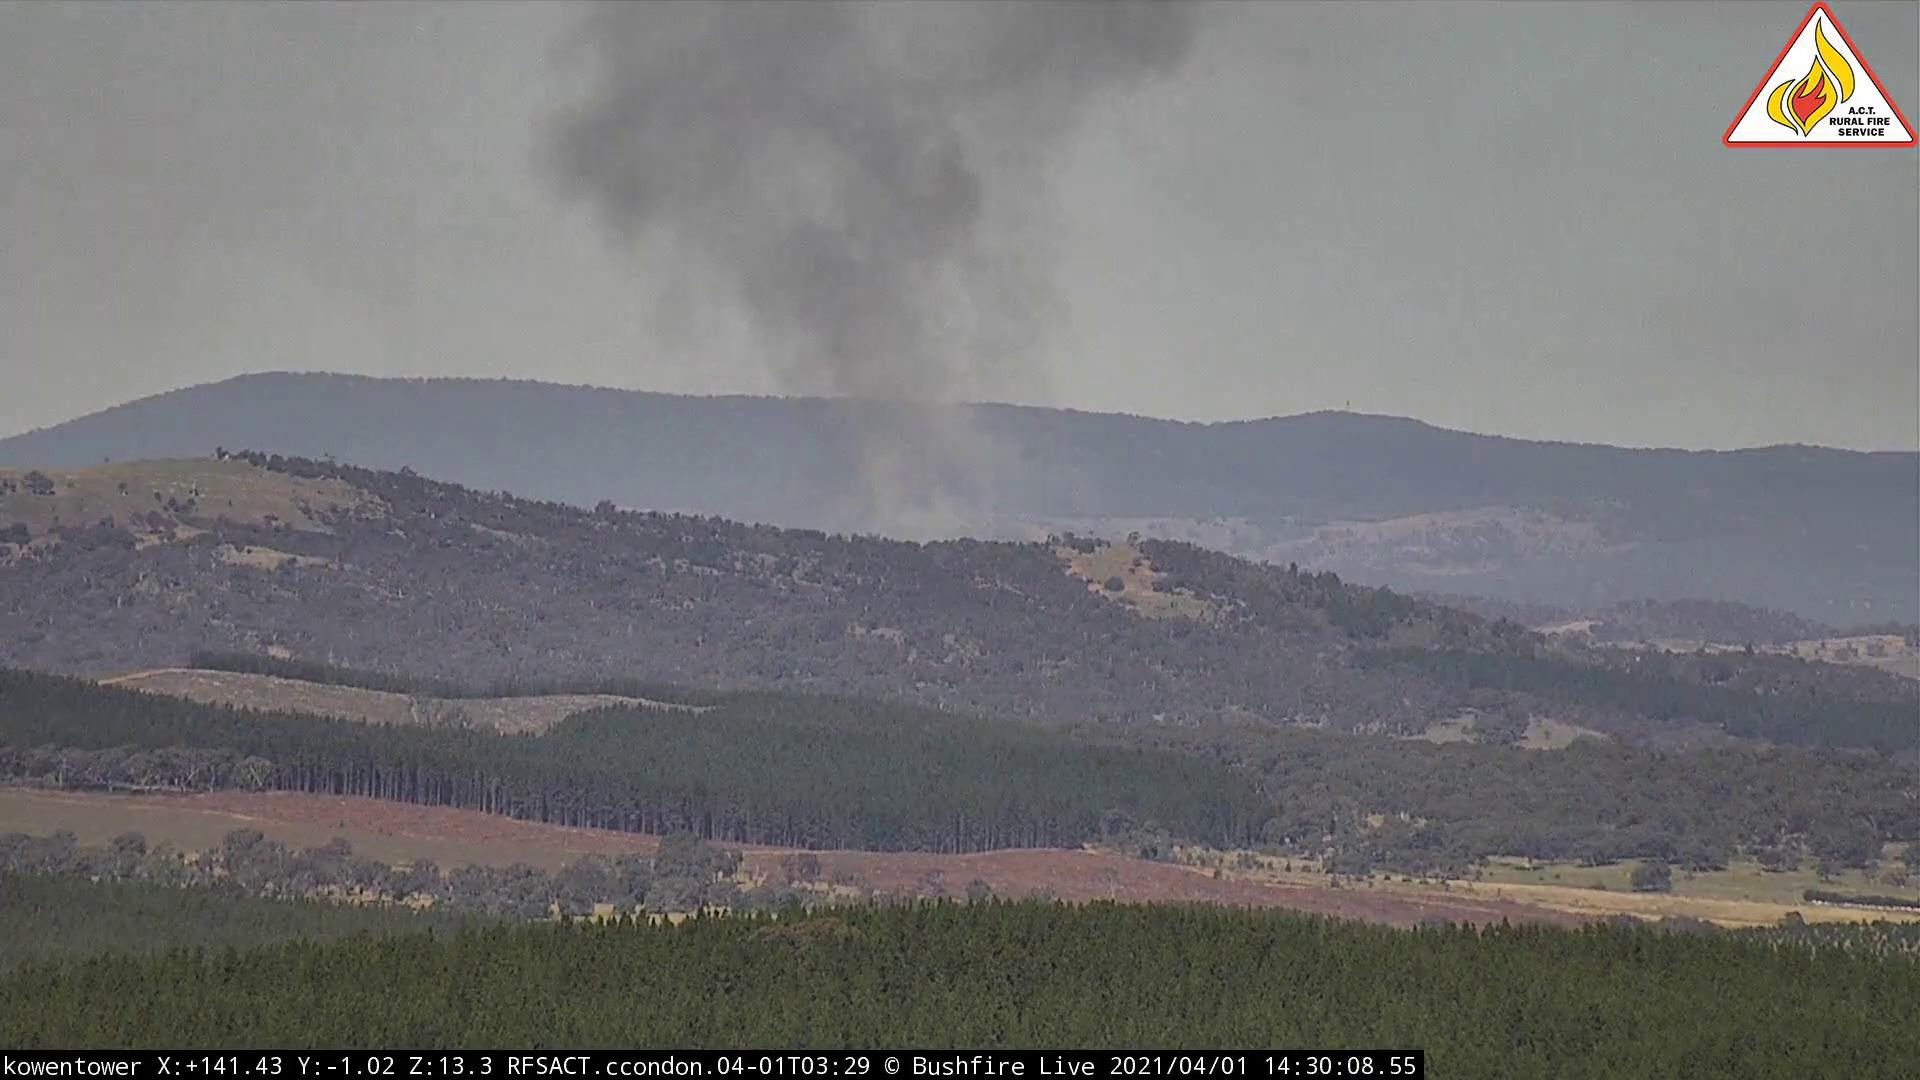Smoke: (500, 3, 1269, 550)
